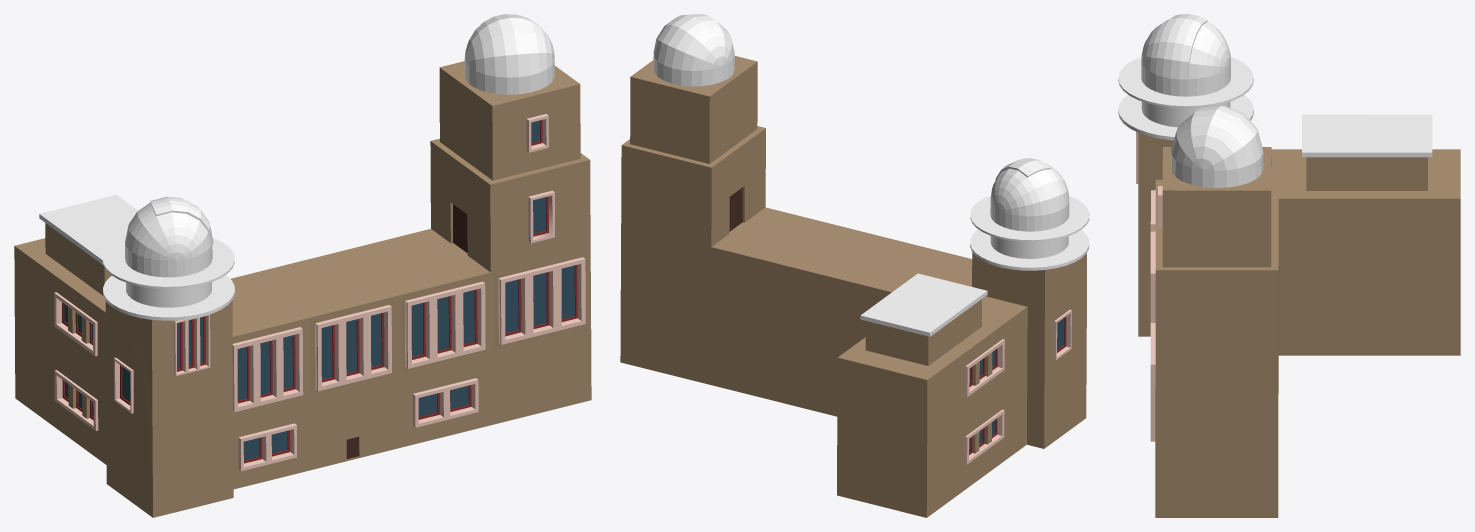
The model's file is PicduMidi_Edificio_Panel_d_01.fbx.
3 views of the same model, side by side, from view 1: azimuth 30°, elevation 25°; view 2: azimuth 150°, elevation 25°; view 3: azimuth 270°, elevation 25° (orthographic). The views are drawn at different scales.
Visible parts, largest first — view 1: Edificiopanel-d; view 2: Edificiopanel-d; view 3: Edificiopanel-d.
Part boxes in pixels (x1,y1,x2,y2): Edificiopanel-d: [14, 14, 591, 517]; Edificiopanel-d: [620, 14, 1089, 517]; Edificiopanel-d: [1118, 14, 1460, 517].
Bounding box in the file's own units: 4575 × 3531 × 2844.
